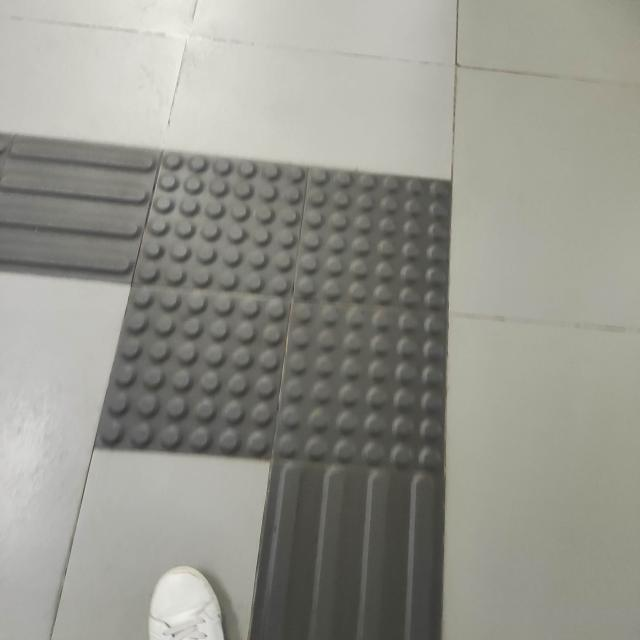kiri: (0, 90, 561, 522)
